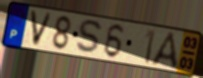1: (144, 29, 157, 66)
6: (103, 23, 126, 60)
8: (51, 15, 73, 52)
A: (149, 31, 180, 71)
S: (75, 19, 105, 56)
V: (29, 9, 54, 49)
